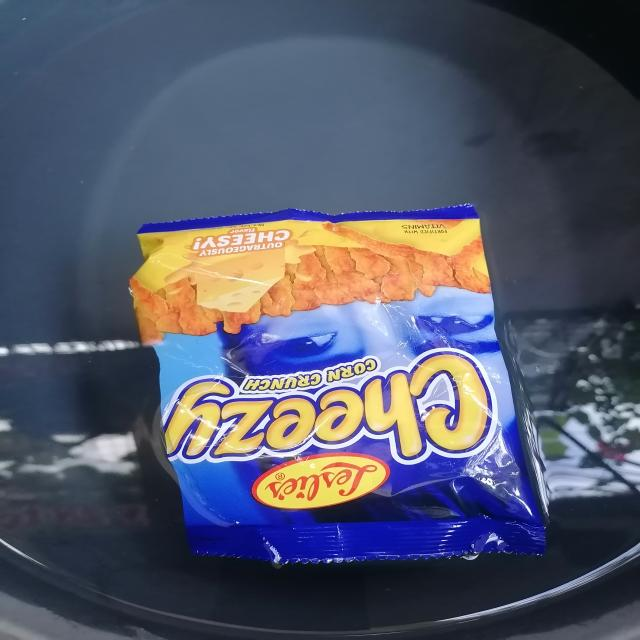Plastic Wrapper: (113, 182, 570, 576)
